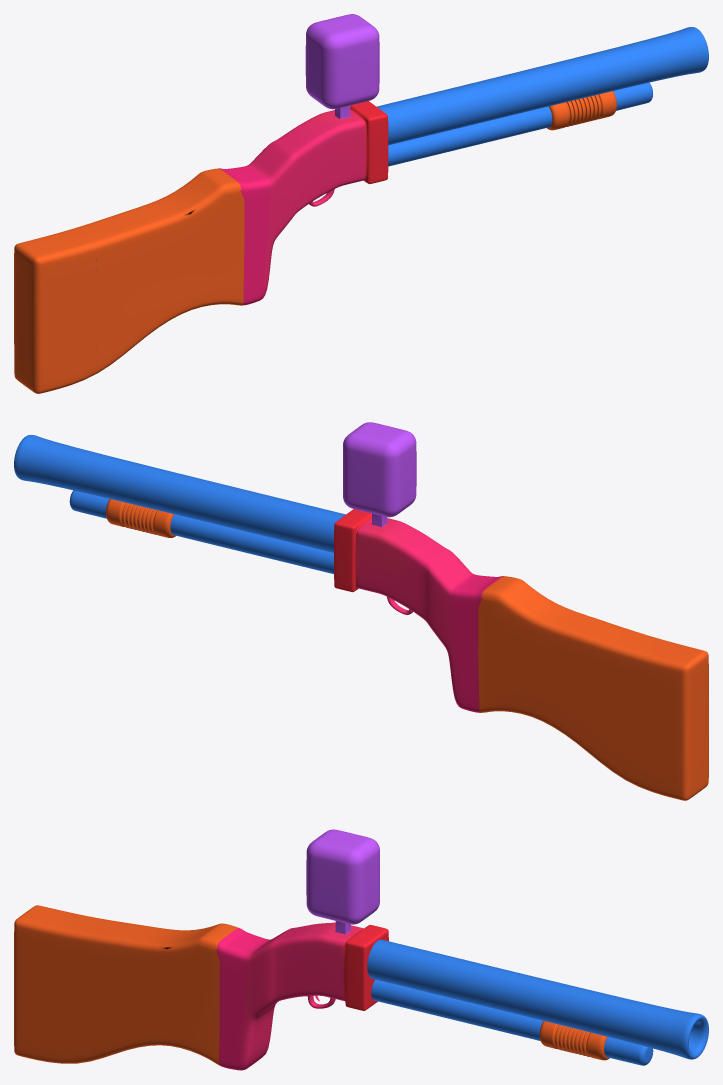
Rendered from Escopeta.fbx.
3 renders of one model, top to bottom at view 1: azimuth 30°, elevation 25°; view 2: azimuth 150°, elevation 25°; view 3: azimuth 330°, elevation 25°, orthographic.
Parts seen in each view (by area): view 1: Cylinder, Cylinder.001; view 2: Cylinder, Cylinder.001; view 3: Cylinder, Cylinder.001.
Part boxes in pixels (x1,y1,x2,y2): Cylinder: (14, 14, 708, 393); Cylinder.001: (547, 91, 616, 130); Cylinder: (14, 422, 708, 800); Cylinder.001: (106, 499, 175, 537); Cylinder: (14, 829, 708, 1070); Cylinder.001: (539, 1021, 609, 1060).
Bounding box in the file's own units: 7398 × 2994 × 520.
2 materials, 2 textured.
